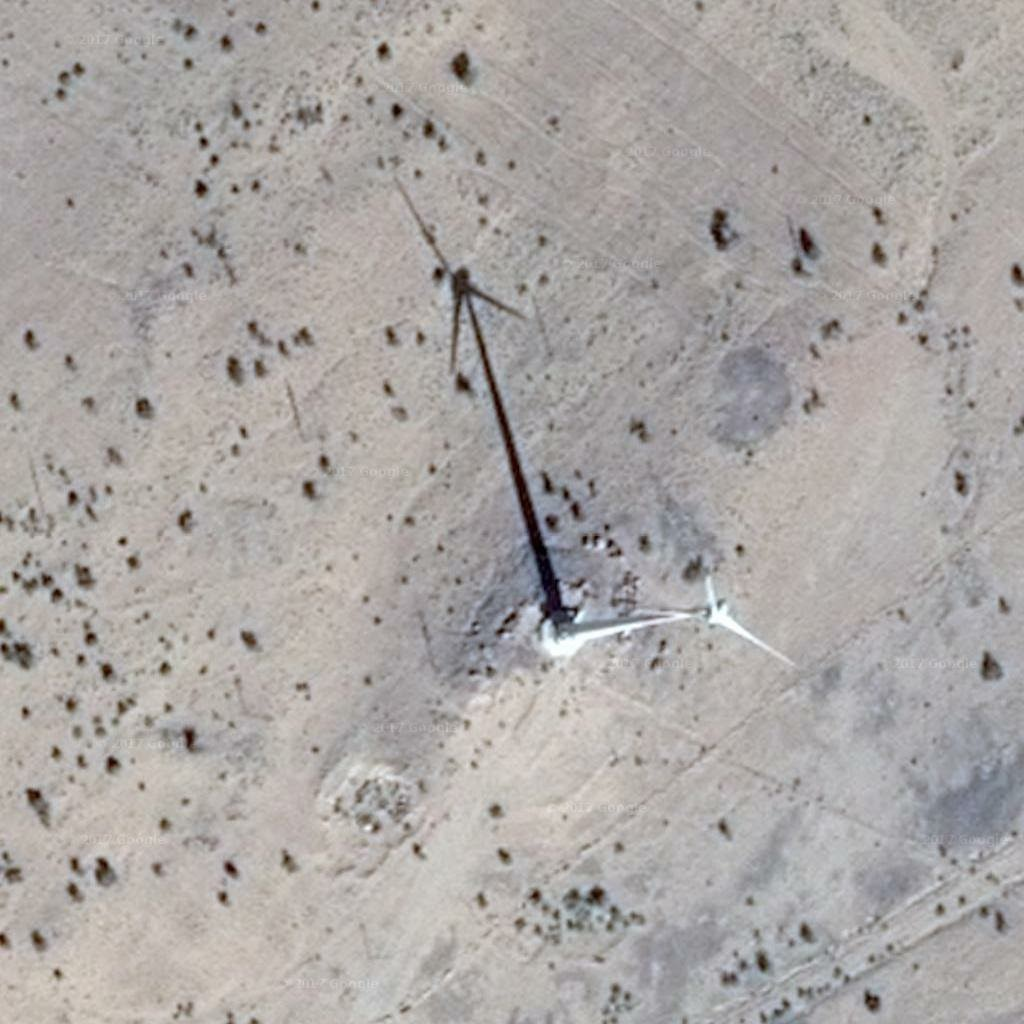Windmill: (392, 177, 583, 621)
